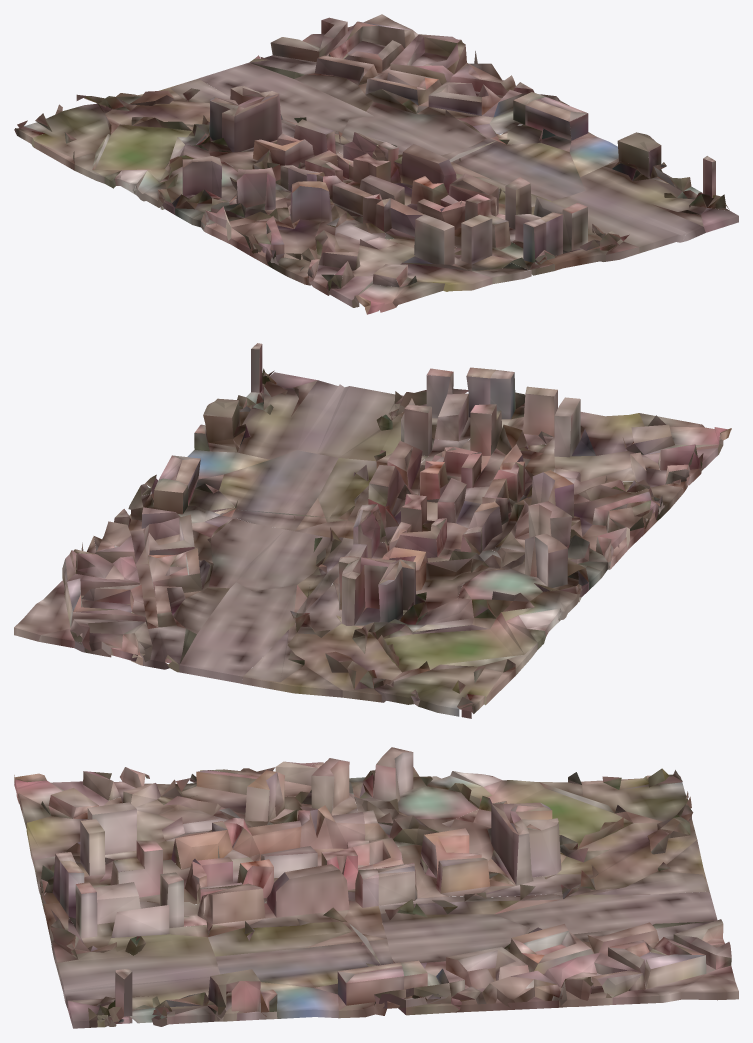
3 views of the same model, one above another, from view 1: azimuth 30°, elevation 25°; view 2: azimuth 150°, elevation 25°; view 3: azimuth 270°, elevation 25° (orthographic). The views are drawn at different scales.
Parts seen in each view (by area): view 1: Mesh_0; view 2: Mesh_0; view 3: Mesh_0.
Part boxes in pixels (x1,y1,x2,y2): Mesh_0: (14, 14, 738, 314); Mesh_0: (14, 343, 731, 718); Mesh_0: (14, 747, 738, 1028).
Bounding box in the file's own units: 532 × 76.75 × 660.
2 materials, 2 textured.
